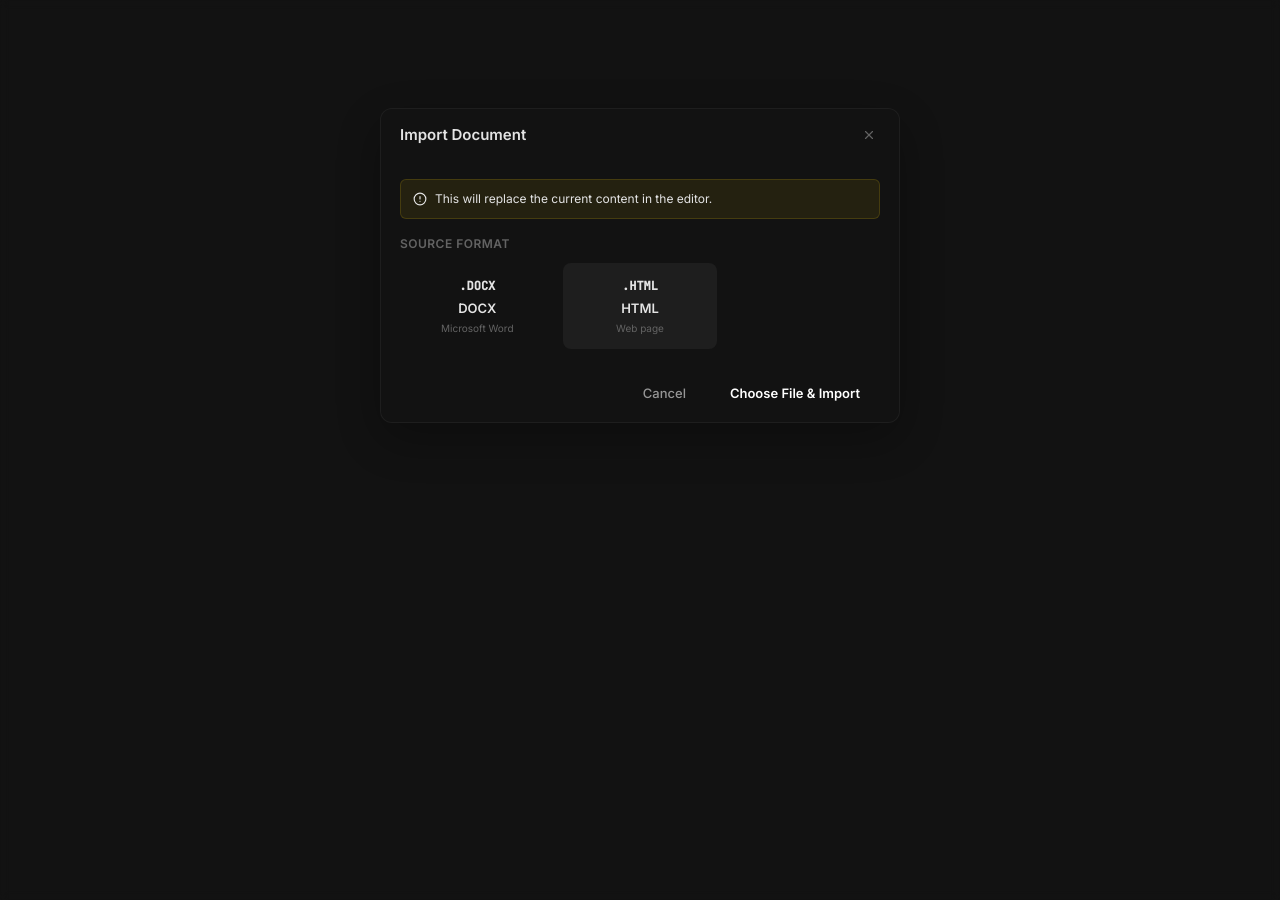
Scenario: ImportDialog › handles import errors properly
The width and height of the screenshot is (1280, 900).
Click the button "Choose File & Import" at (795, 394), box [710,377,880,410]
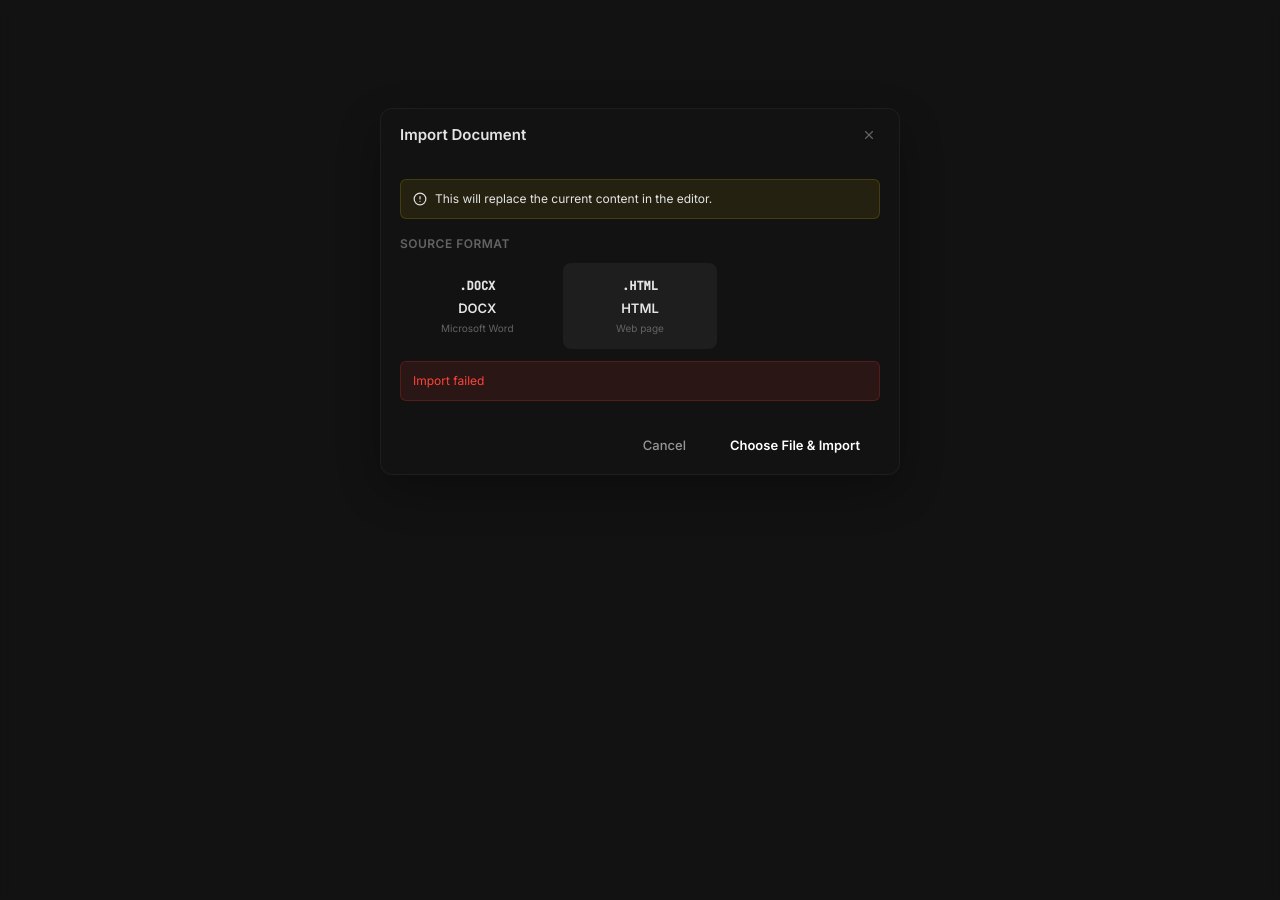
Expected: the text "Import failed" is shown, [400,361,880,401]
